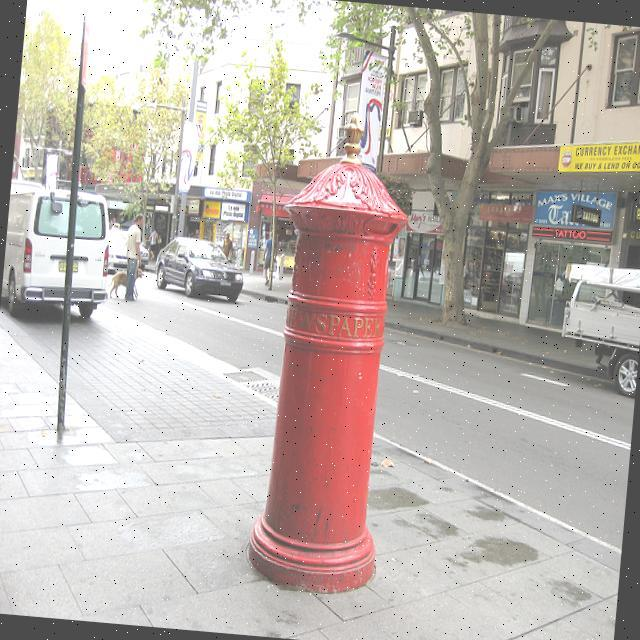fire_hydrant: (232, 93, 421, 592)
